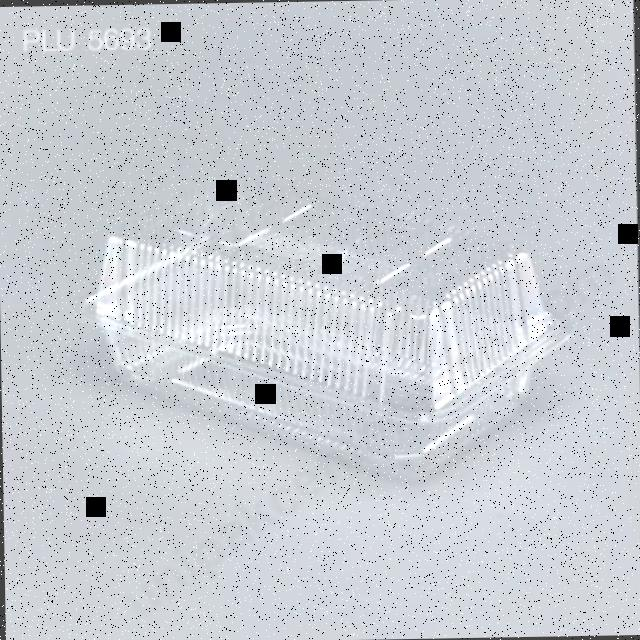plastic_box: (66, 162, 582, 486)
